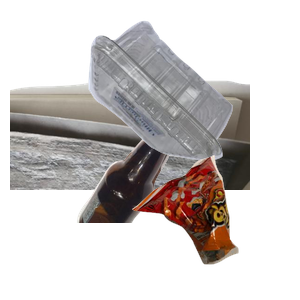glass: (74, 120, 244, 300)
paper: (10, 77, 250, 257)
plastic: (86, 18, 300, 171)
trash: (130, 153, 300, 300)
